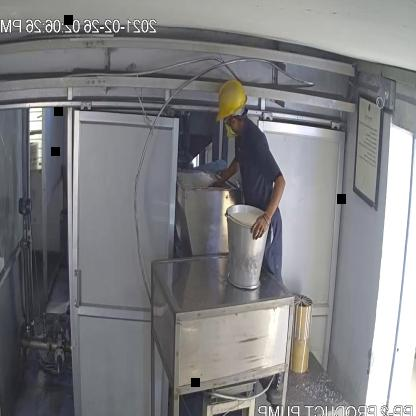helmet: (213, 72, 248, 130)
